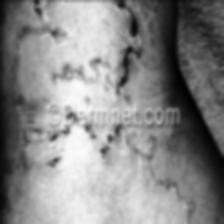Toxin: (12, 0, 142, 96), (22, 122, 162, 180), (168, 178, 204, 224)
